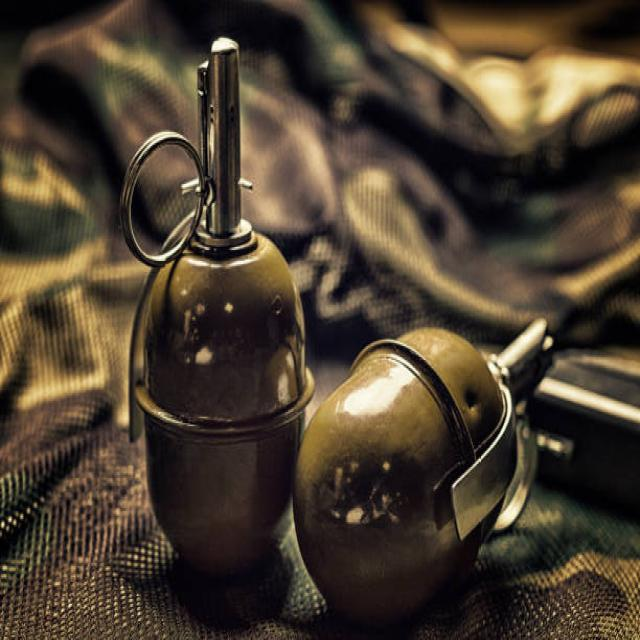grenade: (116, 34, 320, 579), (293, 310, 563, 632)
